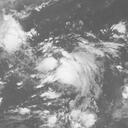cyclone: (35, 45, 88, 87)
